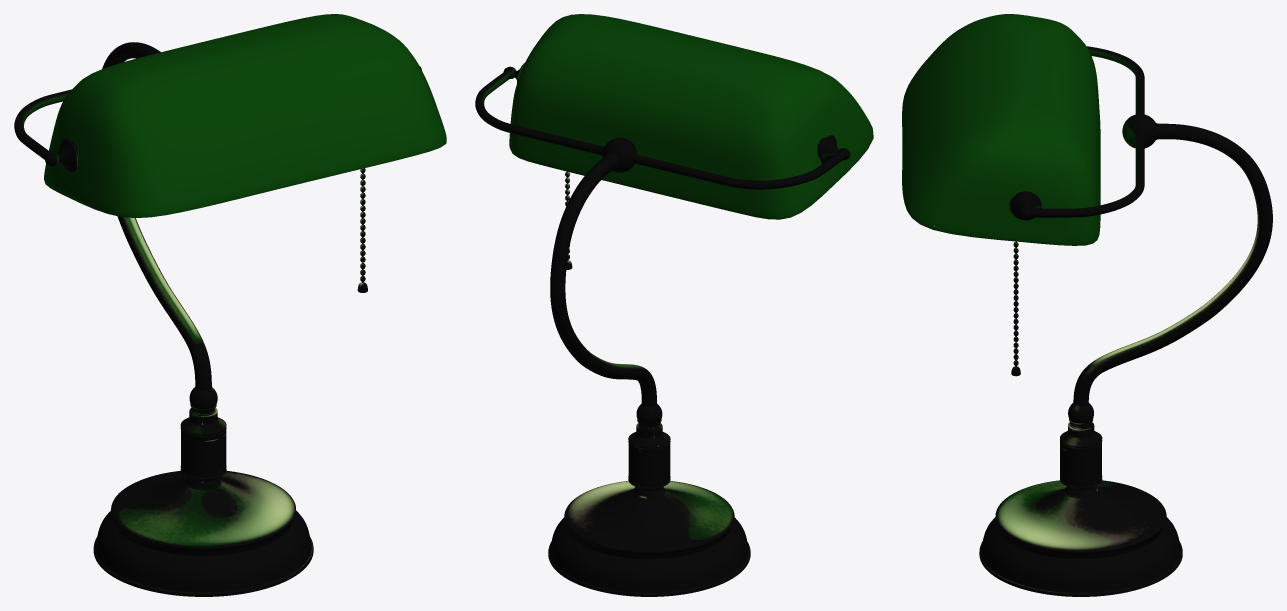
File: bankers_lamp_luminaria_de_mesa.glb
3 views of the same model, side by side, from view 1: azimuth 30°, elevation 25°; view 2: azimuth 150°, elevation 25°; view 3: azimuth 270°, elevation 25° (orthographic). The views are drawn at different scales.
Visible parts, largest first — view 1: Object_4, Object_3; view 2: Object_4, Object_3; view 3: Object_4, Object_3.
Boxes of the visible parts, <box> form: Object_4: <box>45,14,446,596</box>; Object_3: <box>14,42,446,409</box>; Object_4: <box>503,14,873,596</box>; Object_3: <box>475,56,873,424</box>; Object_4: <box>902,14,1182,596</box>; Object_3: <box>902,39,1272,423</box>.
Bounding box in the file's own units: 31.68 × 42.85 × 29.36.
Materials: 1 (1 with a texture image).
